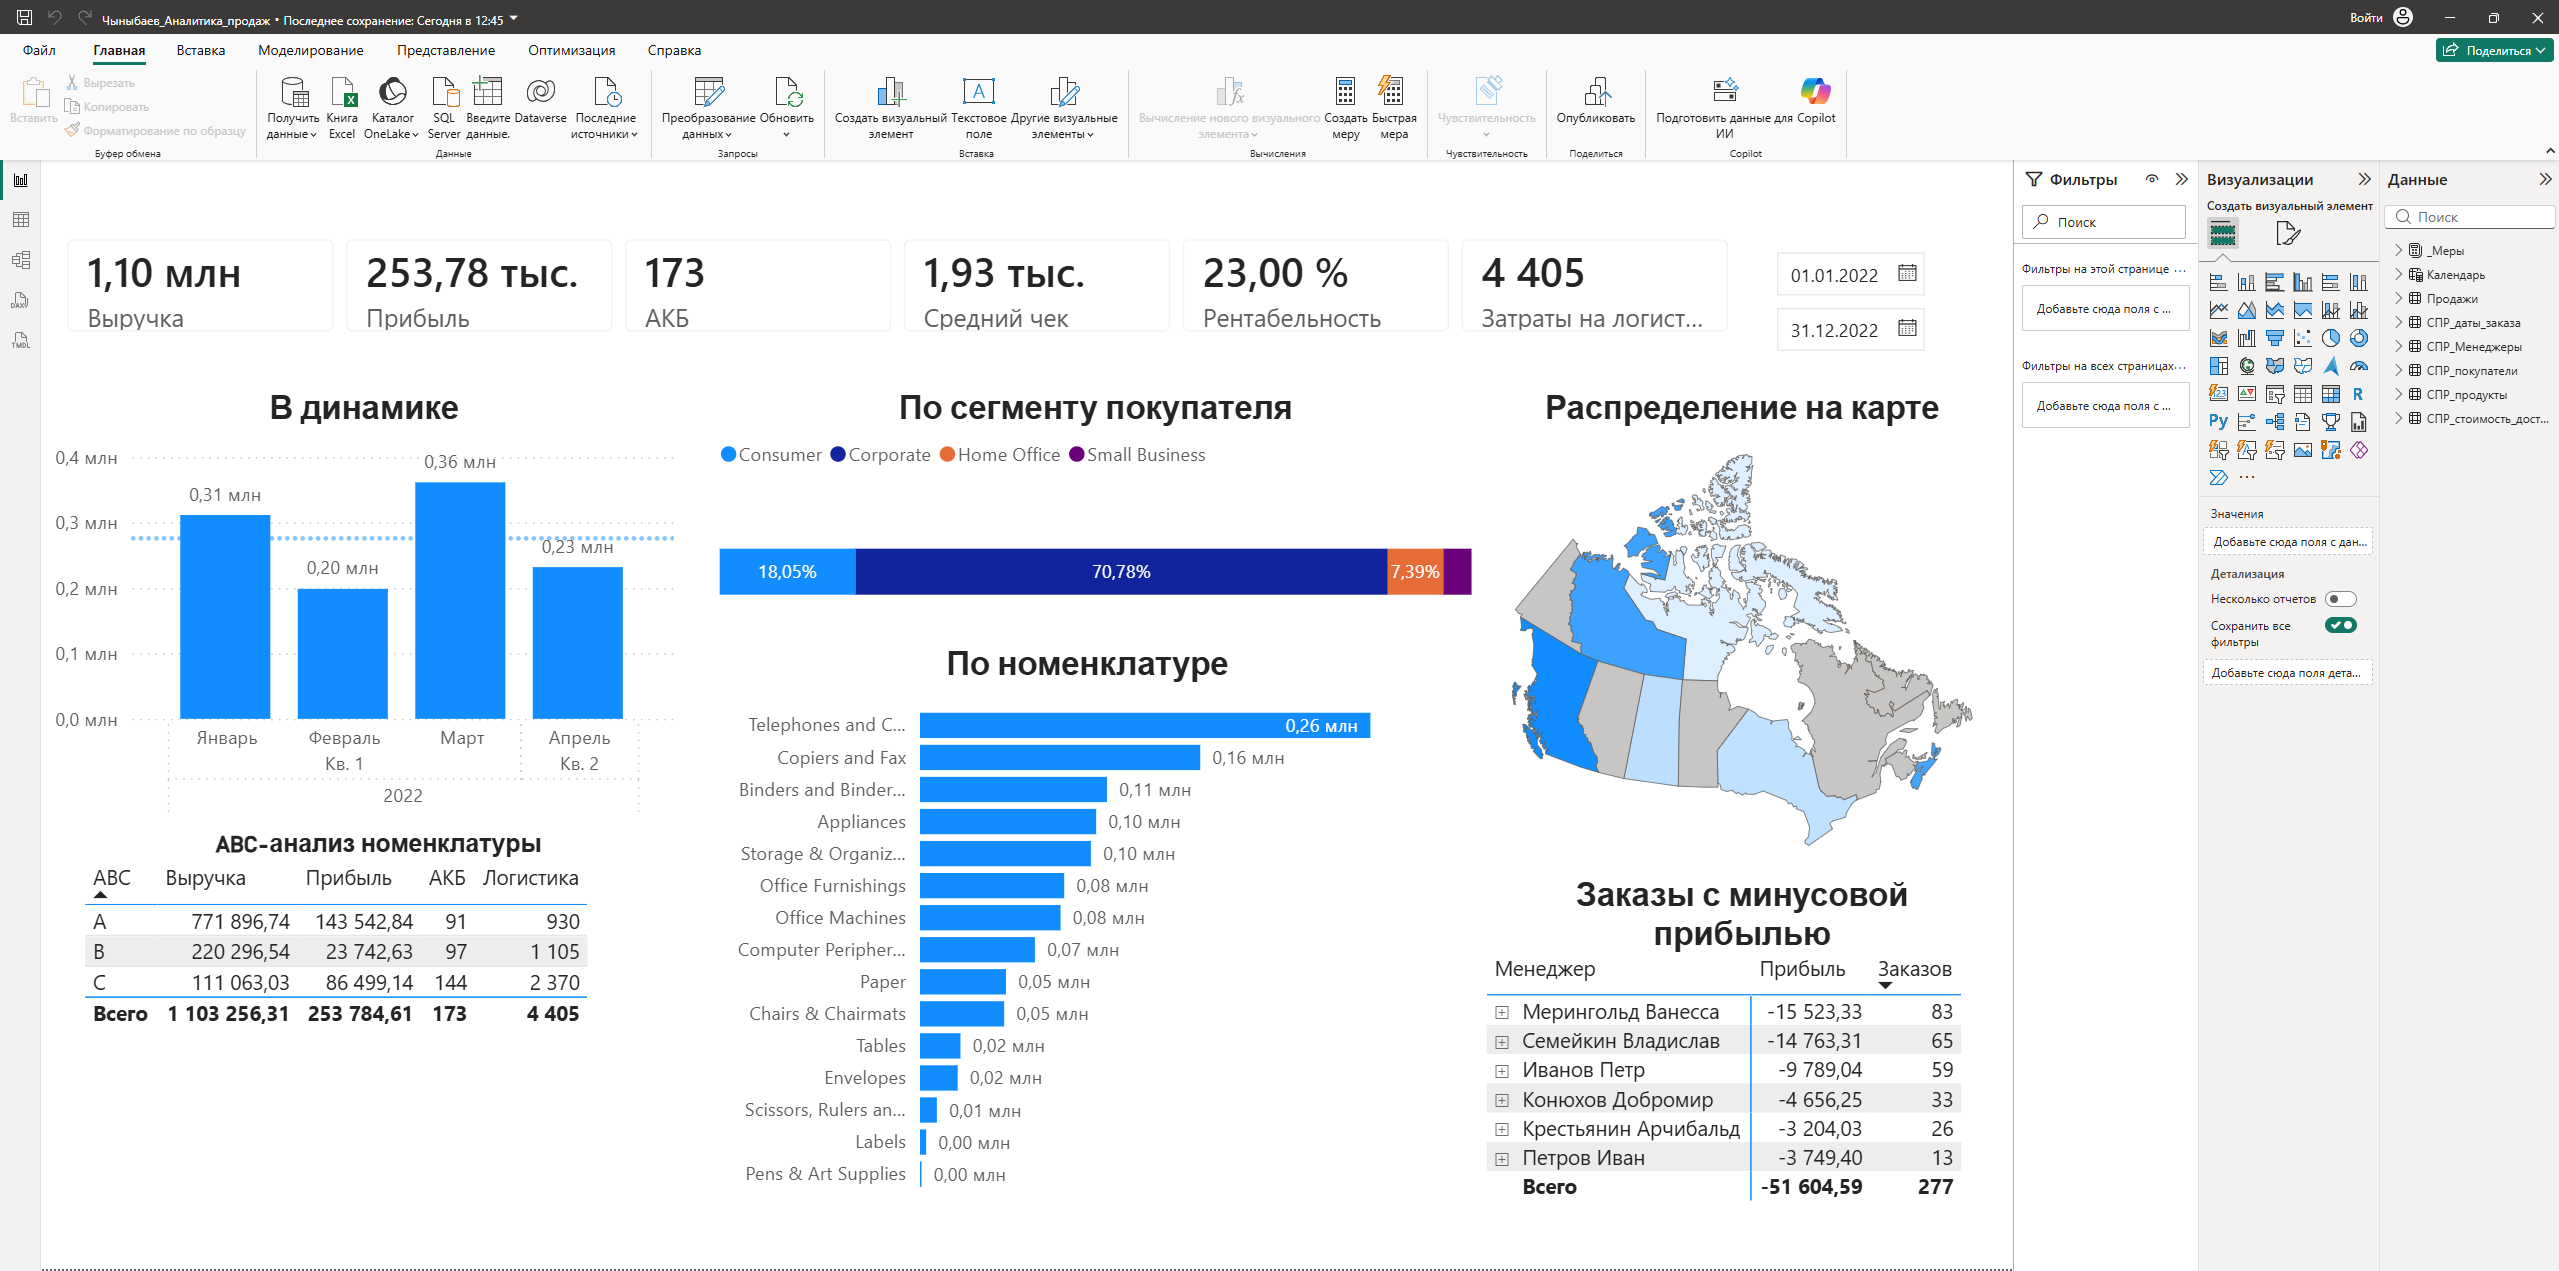

The page's visual inventory and layout, read from the dashboard file:
{"tool":"powerbi","page":{"name":"Аналитика Продаж","canvas":[1280,720],"ordinal":0},"visuals":[{"type":"cardVisual","fields":{"Data":["_Меры.Выручка","_Меры.Прибыль","_Меры.АКБ","_Меры.Средний чек","_Меры.Рентабельность","_Меры.Затраты на логистику"]},"box":[0,34.5,1117.3,94.5],"z":0},{"type":"clusteredColumnChart","title":"В динамике","fields":{"Category":["Календарь.Год","Календарь.Квартал","Календарь.Месяц"],"Y":["_Меры.Выручка"]},"box":[3.6,149.2,411.8,285.5],"z":1000},{"type":"hundredPercentStackedBarChart","title":"По сегменту покупателя","fields":{"Y":["_Меры.Выручка"],"Series":["СПР_покупатели.Сегмент покупателя"]},"box":[435.5,149.2,498.2,180],"z":2000},{"type":"clusteredBarChart","title":"По номенклатуре","fields":{"Category":["СПР_продукты.Категория продукта","СПР_продукты.Подкатегория продукта","СПР_продукты.Продукт"],"Y":["_Меры.Выручка"]},"box":[435.5,315.4,487.3,364.5],"z":3000},{"type":"shapeMap","title":"Распределение на карте","fields":{"Category":["СПР_Менеджеры.Провинция"],"Value":["_Меры.Выручка"]},"box":[933.6,149.2,341.8,315.5],"z":4000},{"type":"tableEx","title":"ABC-анализ номенклатуры","fields":{"Values":["СПР_продукты.ABC","_Меры.Выручка","_Меры.Прибыль","_Меры.АКБ","_Меры.Затраты на логистику"]},"box":[22.7,434.6,392.7,221.8],"z":5000},{"type":"pivotTable","title":"Заказы с минусовой прибылью","fields":{"Rows":["СПР_Менеджеры.Менеджер","Продажи.Order_ID"],"Values":["_Меры.Убыток по заказам","_Меры.Заказы с убытком"]},"box":[933.6,465.5,341.8,215.5],"z":6000},{"type":"slicer","fields":{"Values":["Календарь.Date"]},"box":[1113.6,50,161.8,79.1],"z":7000}]}

Visuals, with their boxes on the page's 1280x720 design canvas (x1, y1, x2, y2). These are canvas units, not pixel positions in the 2559x1271 screenshot, which may show the page scaled, cropped or inside an application window:
cardVisual - _Меры.Выручка x _Меры.Прибыль: <bbox>0, 34, 1117, 129</bbox>
"В динамике" clusteredColumnChart: <bbox>4, 149, 415, 435</bbox>
"По сегменту покупателя" hundredPercentStackedBarChart: <bbox>436, 149, 934, 329</bbox>
"По номенклатуре" clusteredBarChart: <bbox>436, 315, 923, 680</bbox>
"Распределение на карте" shapeMap: <bbox>934, 149, 1275, 465</bbox>
"ABC-анализ номенклатуры" tableEx: <bbox>23, 435, 415, 656</bbox>
"Заказы с минусовой прибылью" pivotTable: <bbox>934, 466, 1275, 681</bbox>
slicer - Календарь.Date: <bbox>1114, 50, 1275, 129</bbox>
